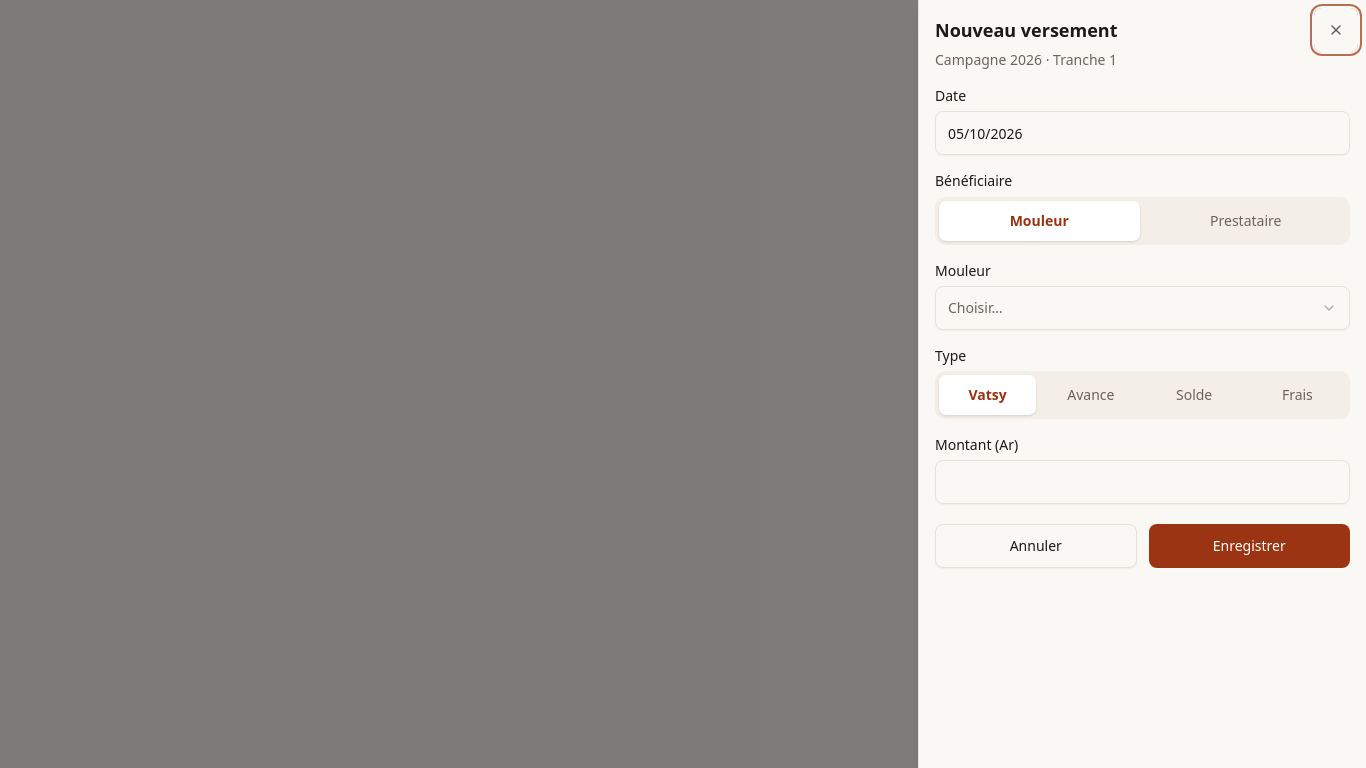
it: NewPaymentPage › pays a contractor by name, suggesting the ones already known
Expected: the element named "Bénéficiaire" is shown, x1=935 y1=196 x2=1350 y2=244
Click the radio button labelled "Prestataire". click: (1246, 220)
box: x1=1146 y1=200 x2=1346 y2=240
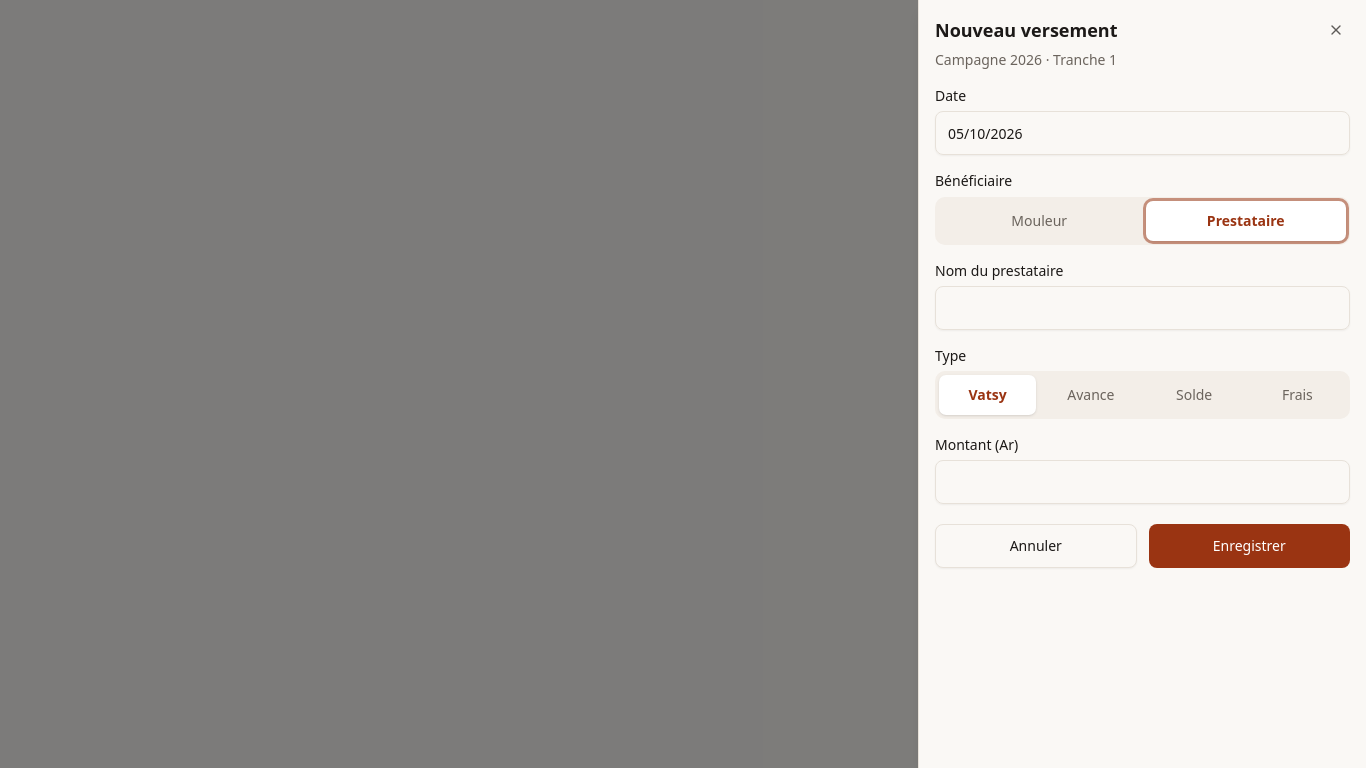
Type " Solo " into the field labelled "Nom du prestataire". click: (1142, 308)
box: x1=935 y1=286 x2=1350 y2=330
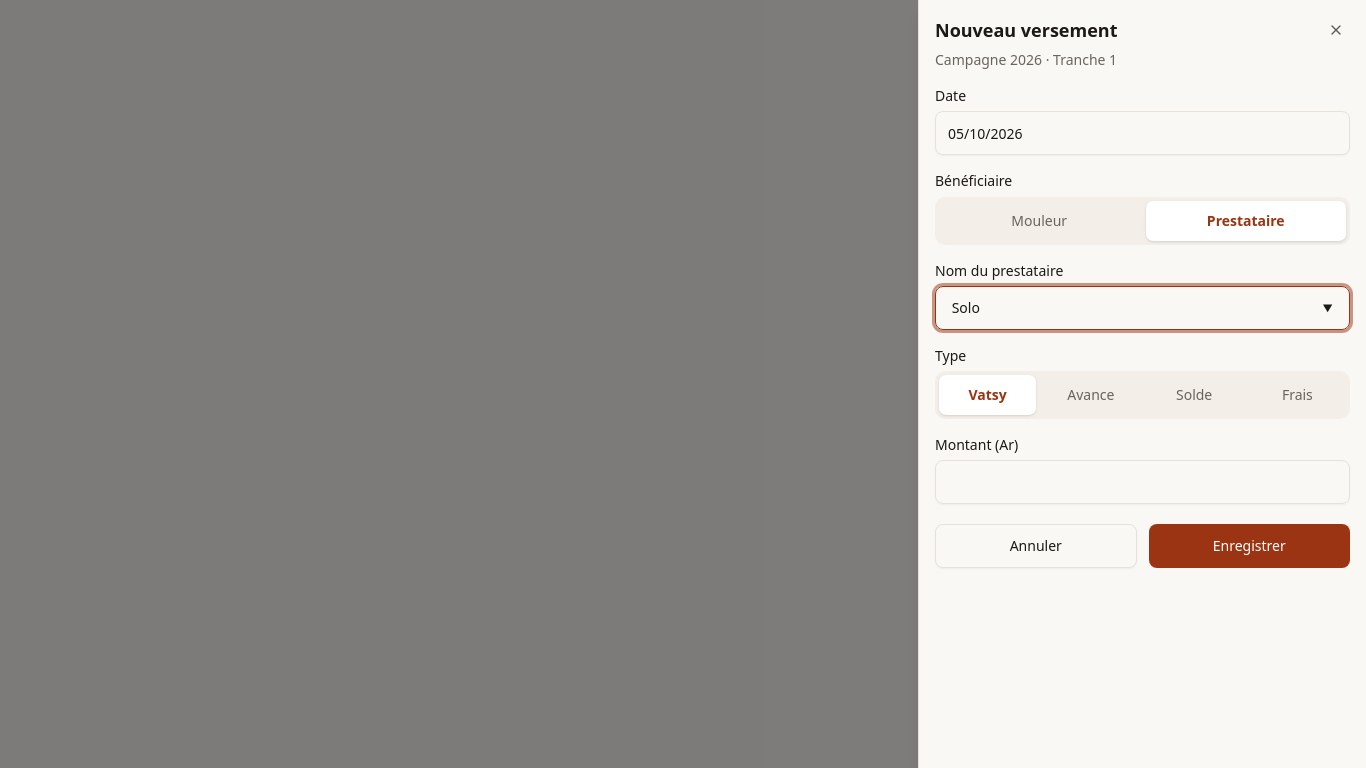
Click the radio button labelled "Avance". click: (1091, 395)
box: x1=1042 y1=375 x2=1140 y2=415
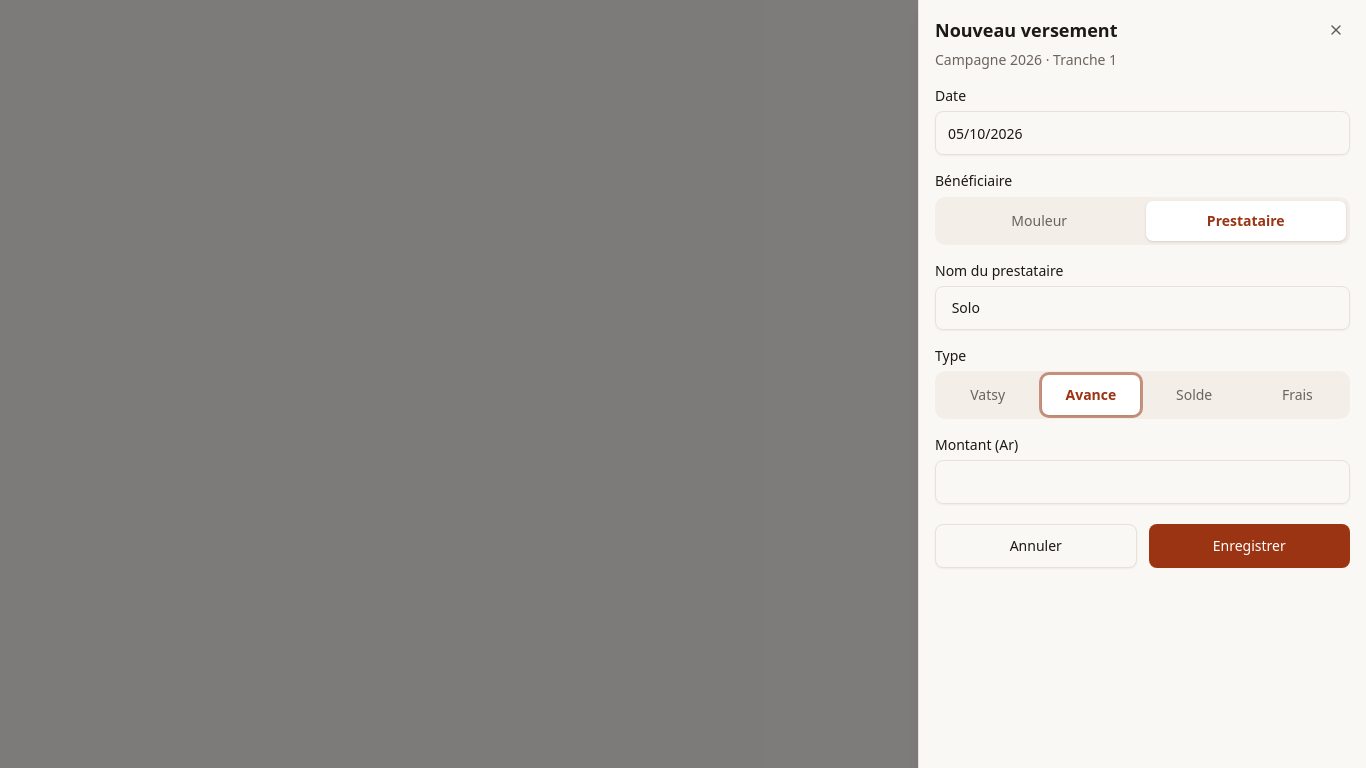
Type "120000" into the field labelled "Montant (Ar)". click: (1142, 482)
box: x1=935 y1=460 x2=1350 y2=504
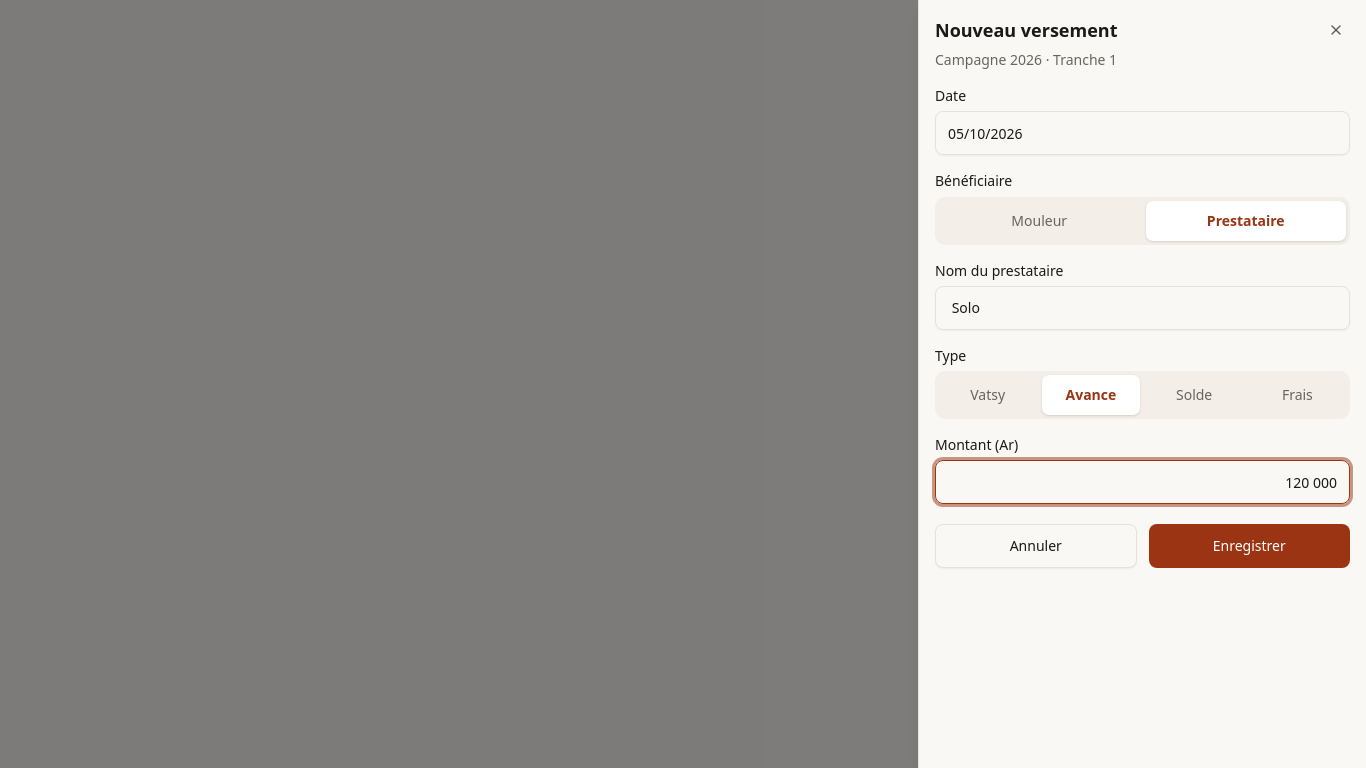
Click the button "Enregistrer". click: (1249, 546)
box: x1=1148 y1=524 x2=1350 y2=568
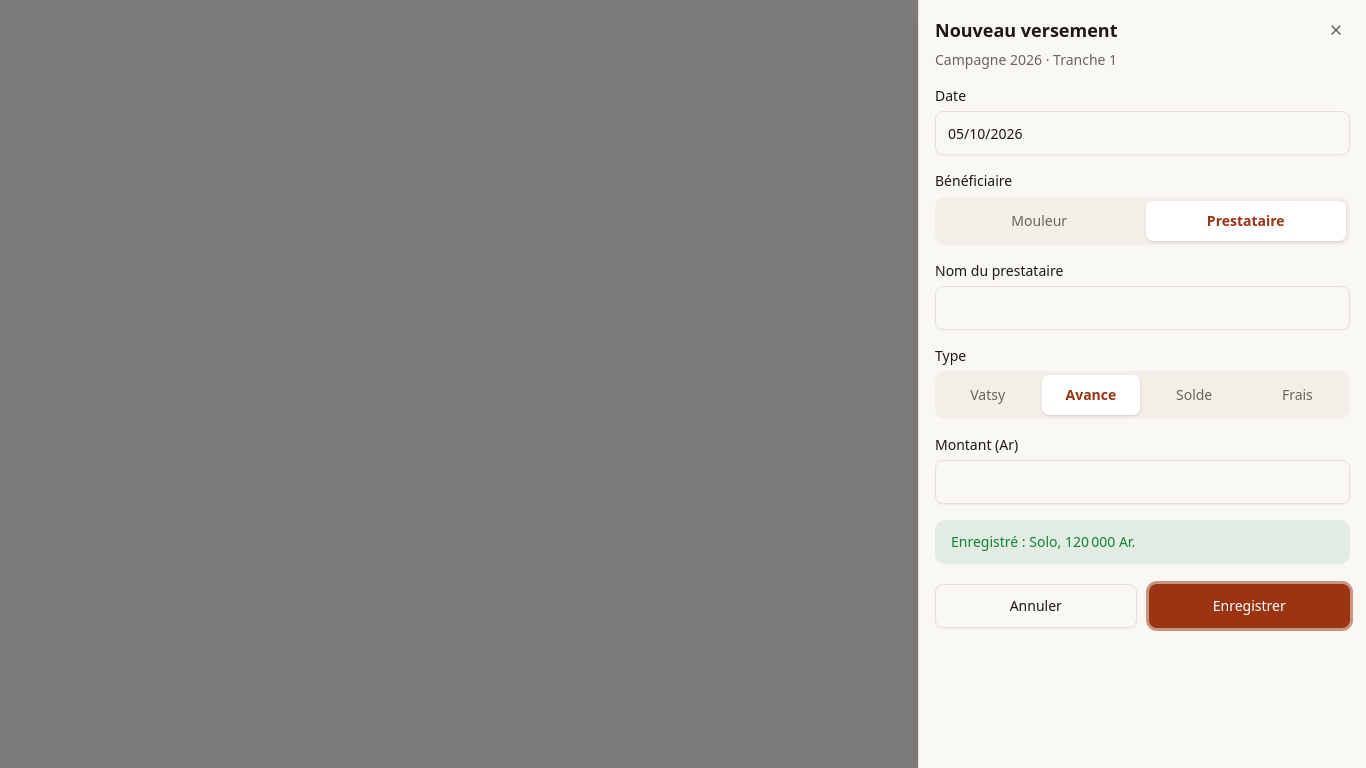
Now the message shows "Enregistré : Solo", box x1=951 y1=532 x2=1135 y2=551
